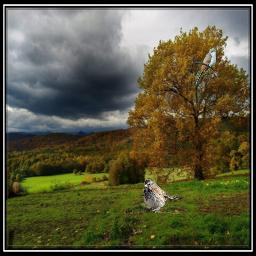Cuckoo: (194, 48, 216, 88)
Sparrow: (143, 178, 183, 213)
